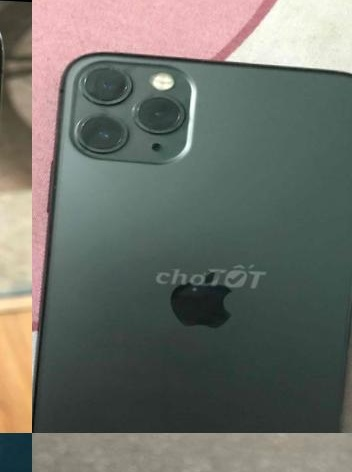scratch: (63, 58, 187, 160)
